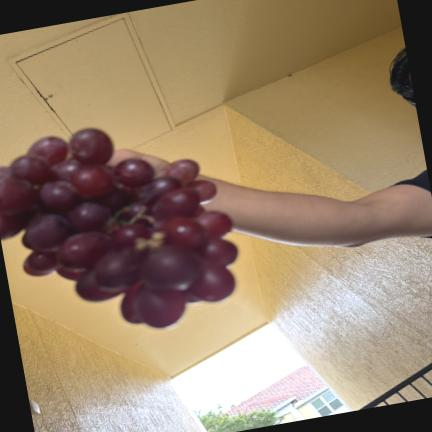grape_cluster: (0, 129, 237, 328)
